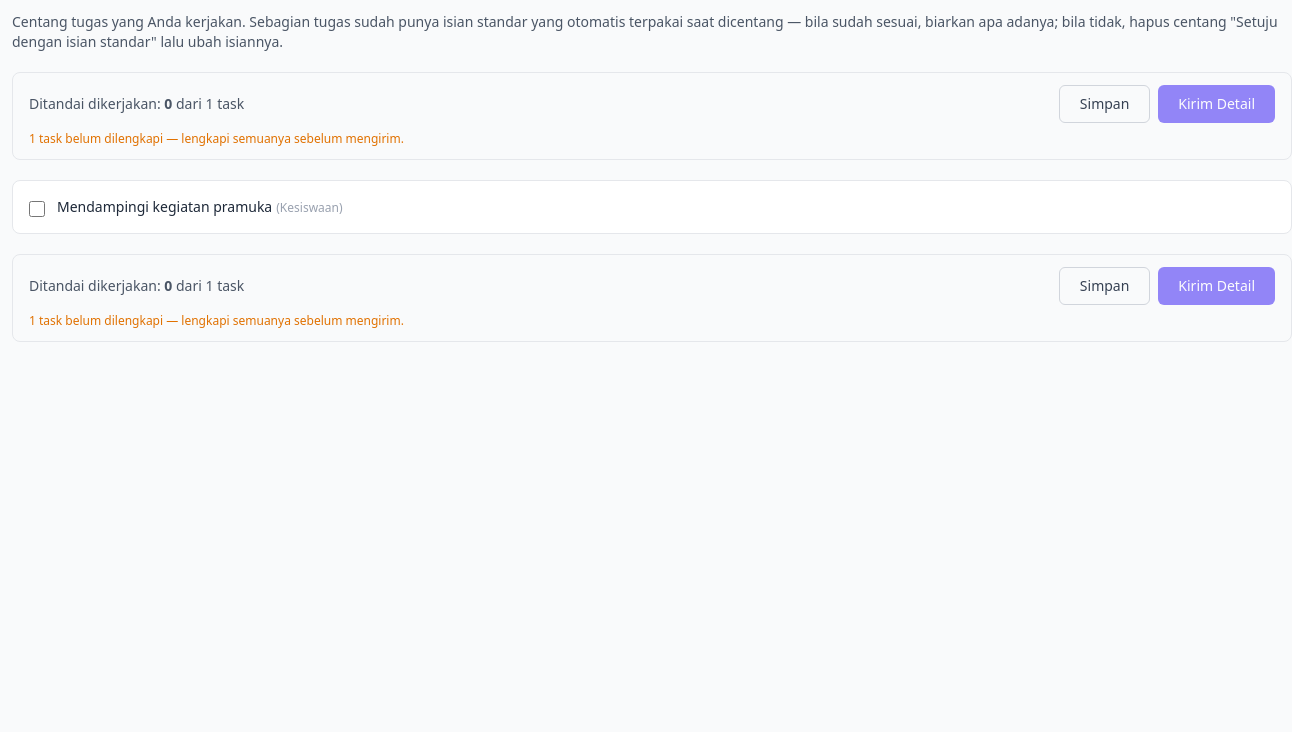
Test case: DetailForm — Tahap 3: durasi standar (issue #22, Opsi A) › tanpa centang setuju-standar: seluruh field termasuk durasi tetap dapat diedit (tanpa regresi)
Click the checkbox labelled "Mendampingi kegiatan pramuka(Kesiswaan)". click: (37, 209)
box: [29, 201, 45, 217]
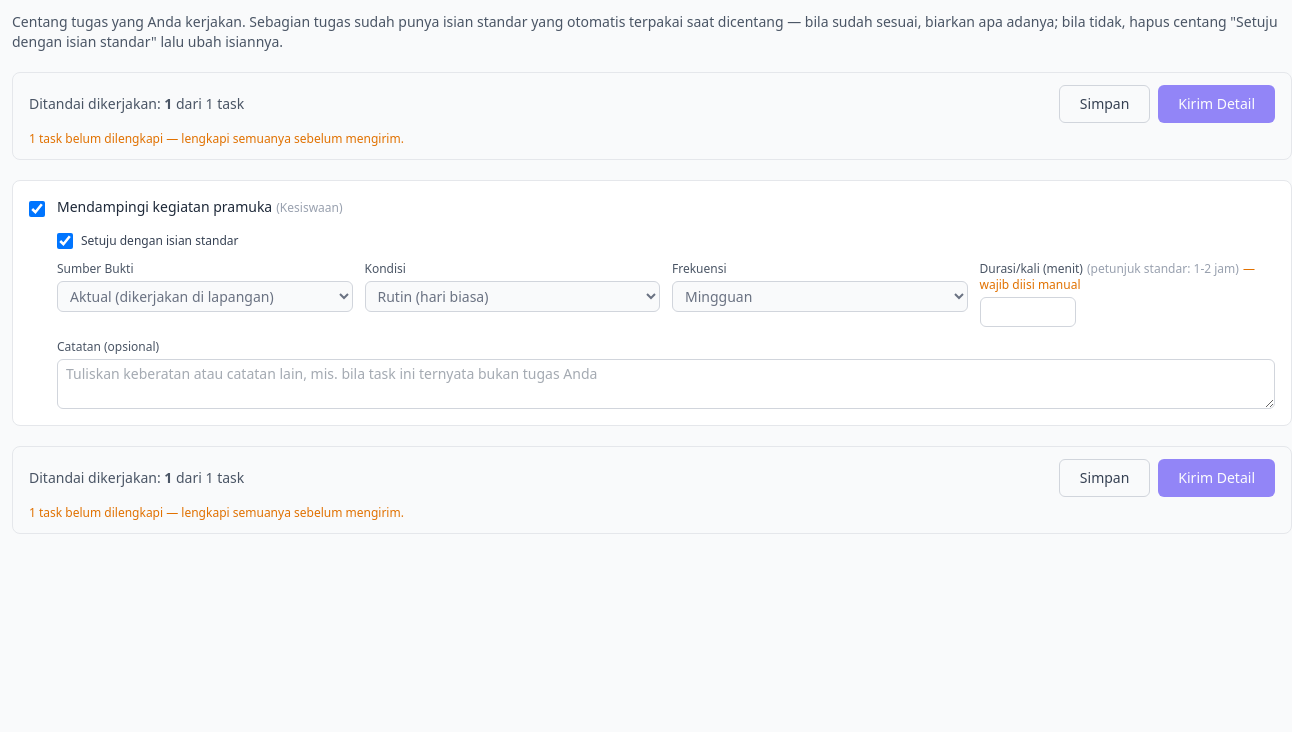
Click the checkbox labelled "Setuju dengan isian standar". click: (65, 241)
box: [57, 233, 73, 249]
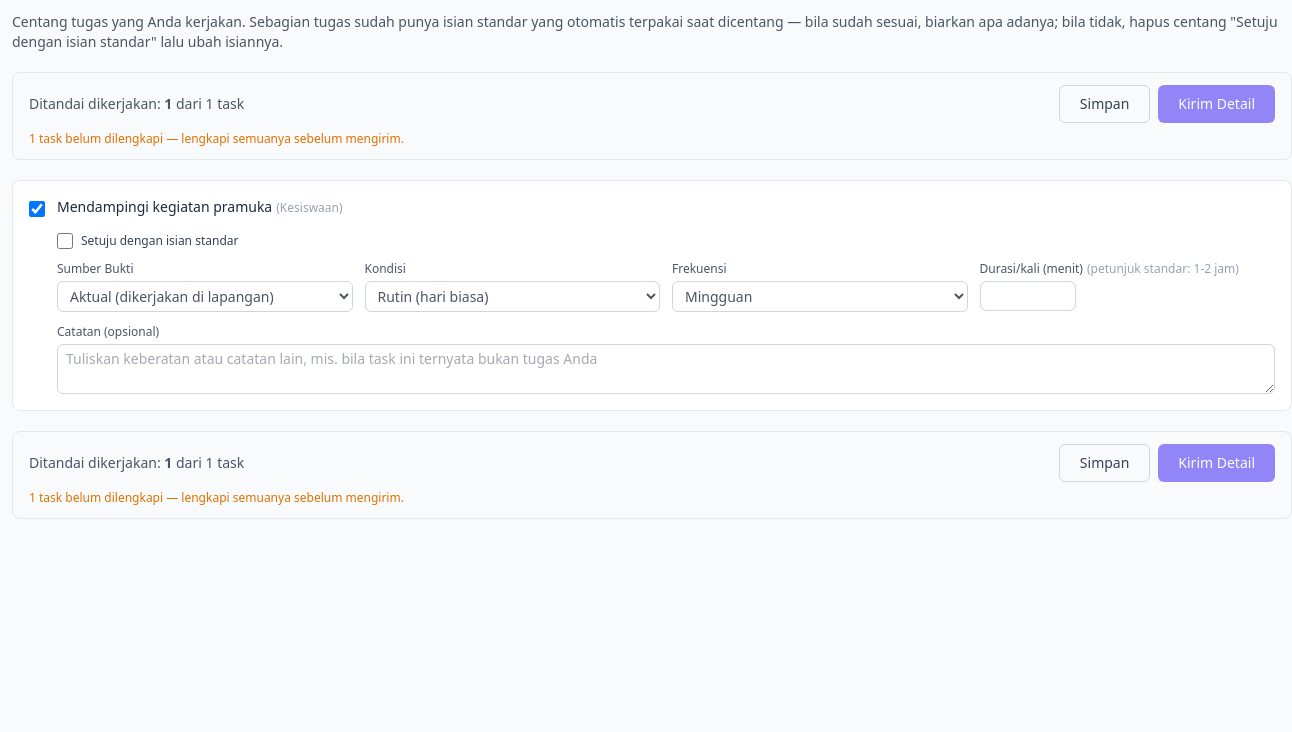
Check: the number field labelled "Durasi/kali (menit)(petunjuk standar: 1-2 jam)" is enabled, box [980, 281, 1076, 311]
Check: the dropdown labelled "Sumber Bukti" is enabled, box [57, 281, 352, 312]
Check: the text "wajib diisi manual" is gone
